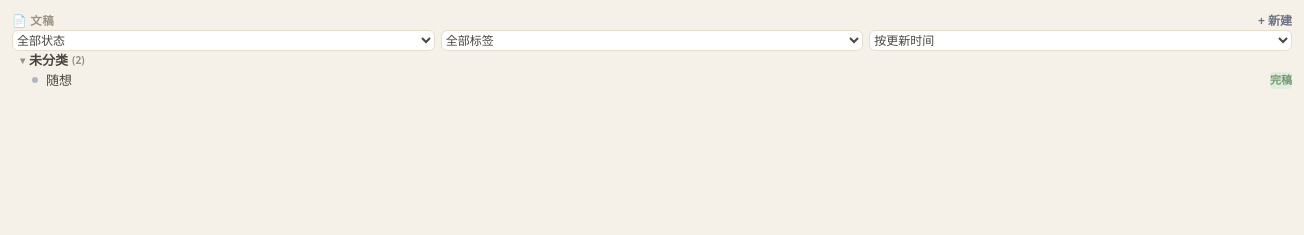
Test case: PostTree › 右键「打包导出…」→ 保存对话框 → exportPostZip(id, 路径) + 成功提示
This screenshot has width=1304, height=235.
Right-click the text "随想": point(35, 80) [12,70,1292,90]
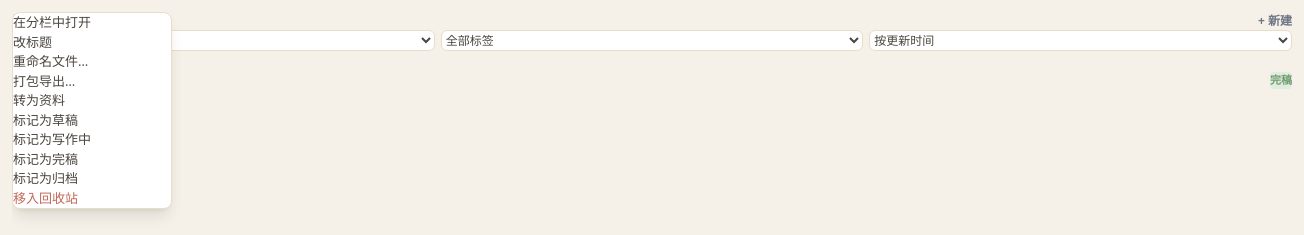
Click the button with test id "menu-export-zip": point(92, 81) [13,72,171,91]
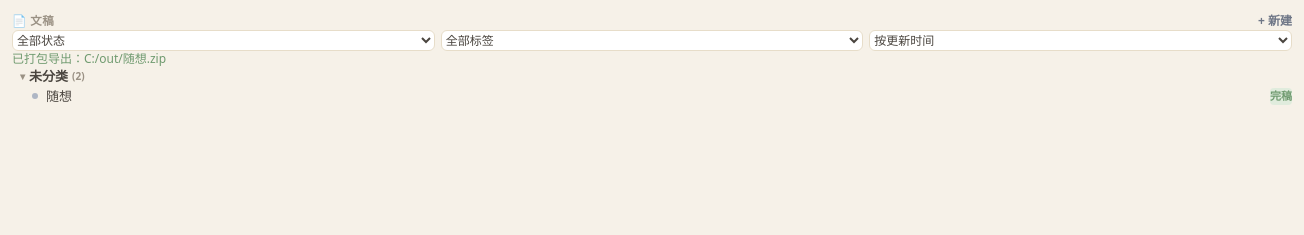
Result: the text with test id "zip-note" shows "已打包导出" at [12,50,166,67]
